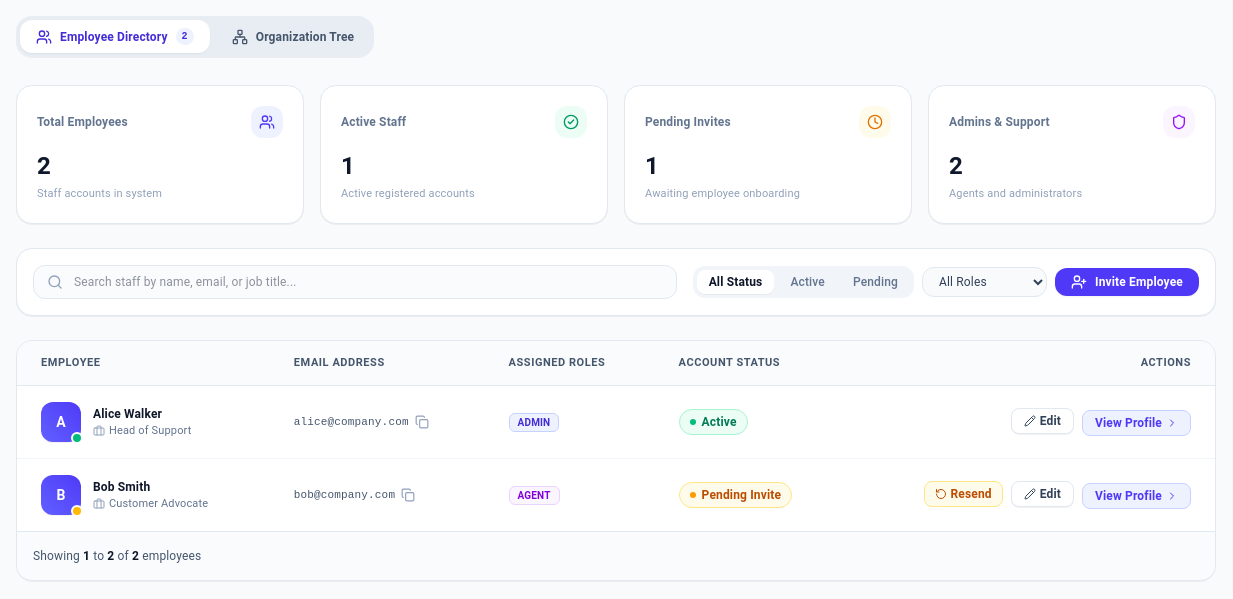
Test: EmployeeManagementPage Component › filters staff by search query input
The image size is (1233, 599).
Type "Alice" into the field with placeholder "Search staff by name, email, or job title...".
click(355, 282); type("Alice")  # box [33,265,677,299]
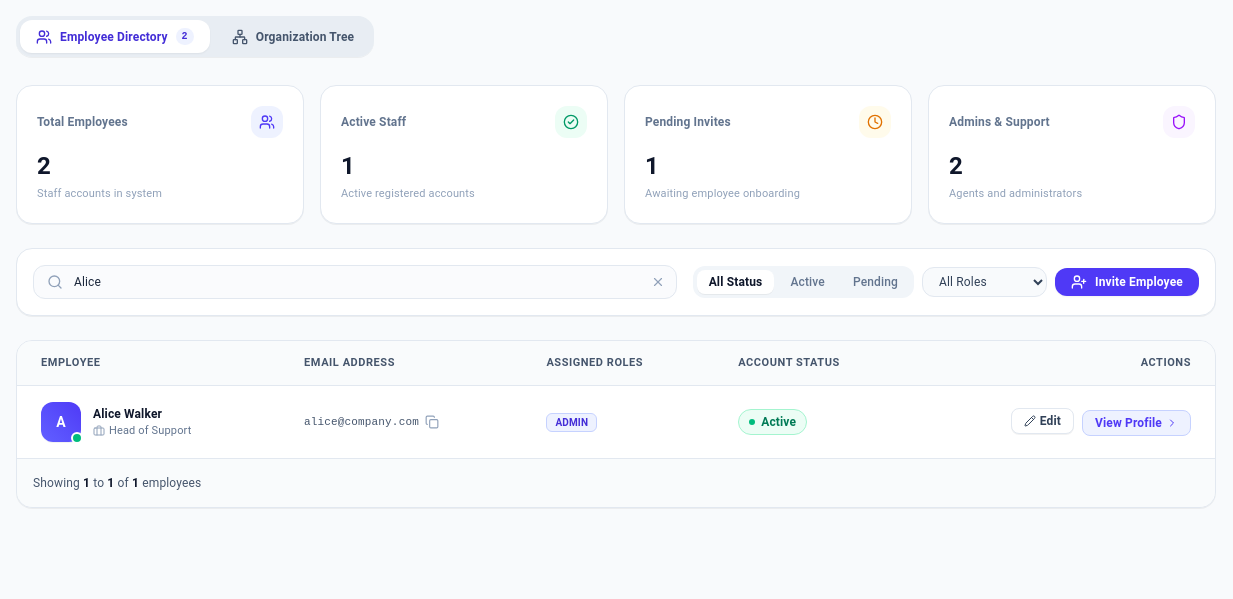
Expected: the link "Alice Walker" is shown, [93,407,162,421]
Expected: the link "Bob Smith" is gone
